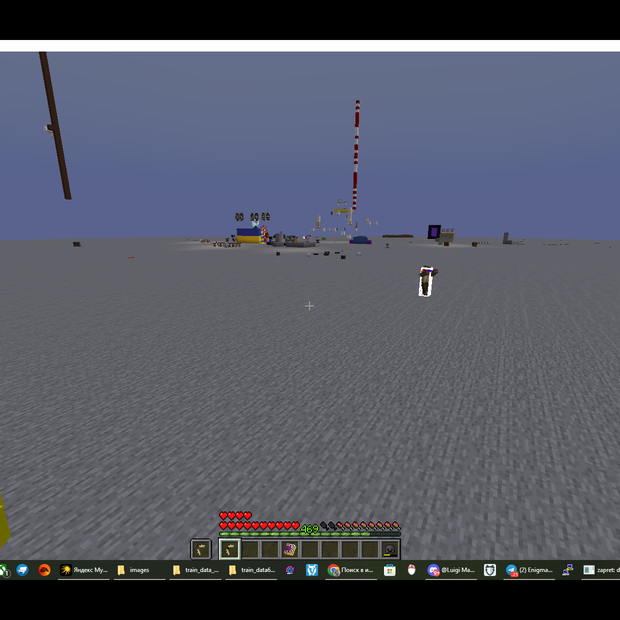target: (419, 265, 433, 298)
